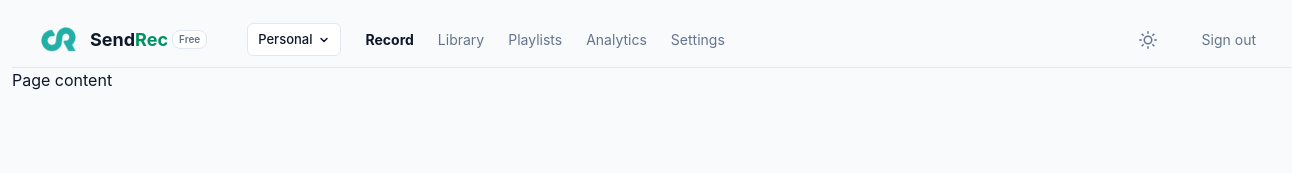
Test: Layout › closes org dropdown on click outside
The width and height of the screenshot is (1292, 173).
Click the button named "Switch workspace": (294, 40) [247, 23, 342, 56]
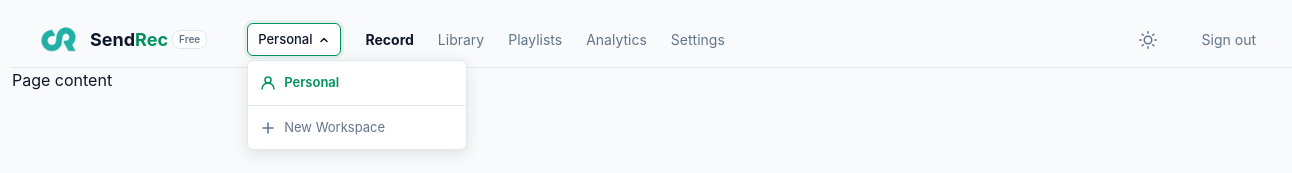
Expected: the list named "Workspaces" is shown, [247, 60, 467, 150]
Click the element that starts with "Send": (652, 52) [12, 12, 1291, 92]
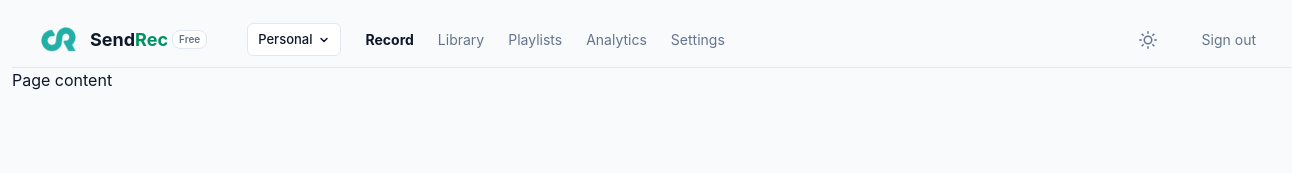
Expected: the list "Workspaces" is gone
